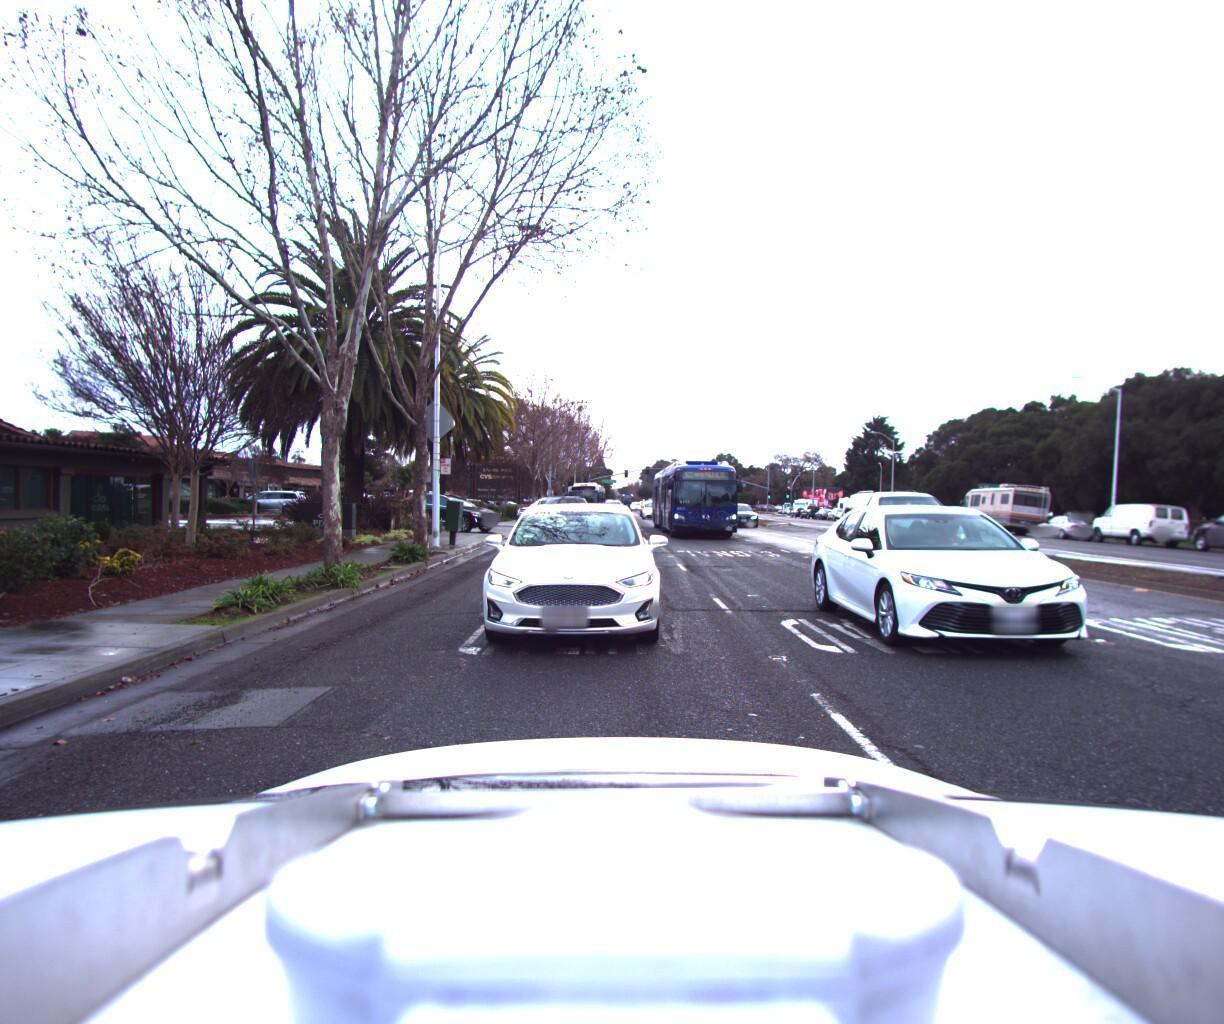bus: (645, 460, 750, 548), (563, 482, 602, 525)
car: (804, 505, 1117, 669), (460, 474, 668, 674), (838, 482, 981, 570), (1086, 500, 1195, 552), (397, 495, 502, 538), (506, 497, 594, 535), (1182, 495, 1224, 563), (1031, 517, 1101, 546), (719, 502, 761, 536), (640, 501, 667, 525)
other_vehicle: (951, 482, 1059, 541), (832, 496, 882, 527)
